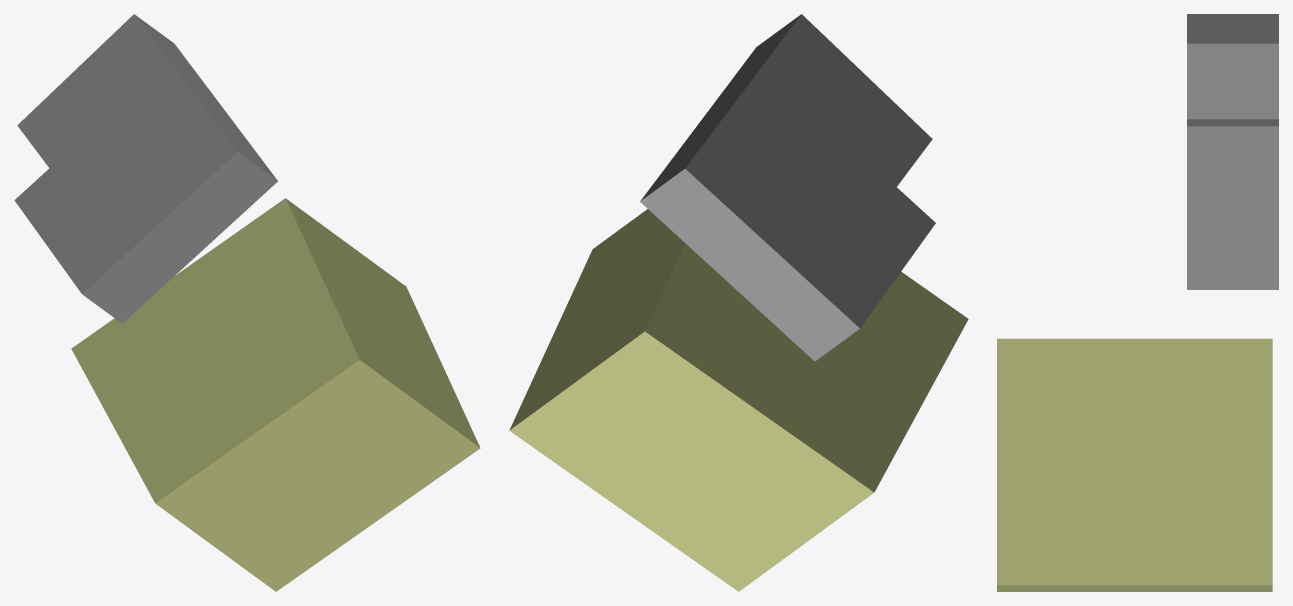
3 renders of one model, left to right at view 1: azimuth 30°, elevation 25°; view 2: azimuth 150°, elevation 25°; view 3: azimuth 270°, elevation 25°, orthographic. The views are drawn at different scales.
Visible parts, largest first — view 1: 0_1_0_2_1_3_0_3_2_3; view 2: 0_1_0_2_1_3_0_3_2_3; view 3: 0_1_0_2_1_3_0_3_2_3.
Boxes of the visible parts, x1,y1,x2,y2 form: 0_1_0_2_1_3_0_3_2_3: [14, 14, 480, 591]; 0_1_0_2_1_3_0_3_2_3: [509, 14, 968, 591]; 0_1_0_2_1_3_0_3_2_3: [997, 14, 1278, 591].
Size of the model in its own units: 14.73 by 20.21 by 9.2.
